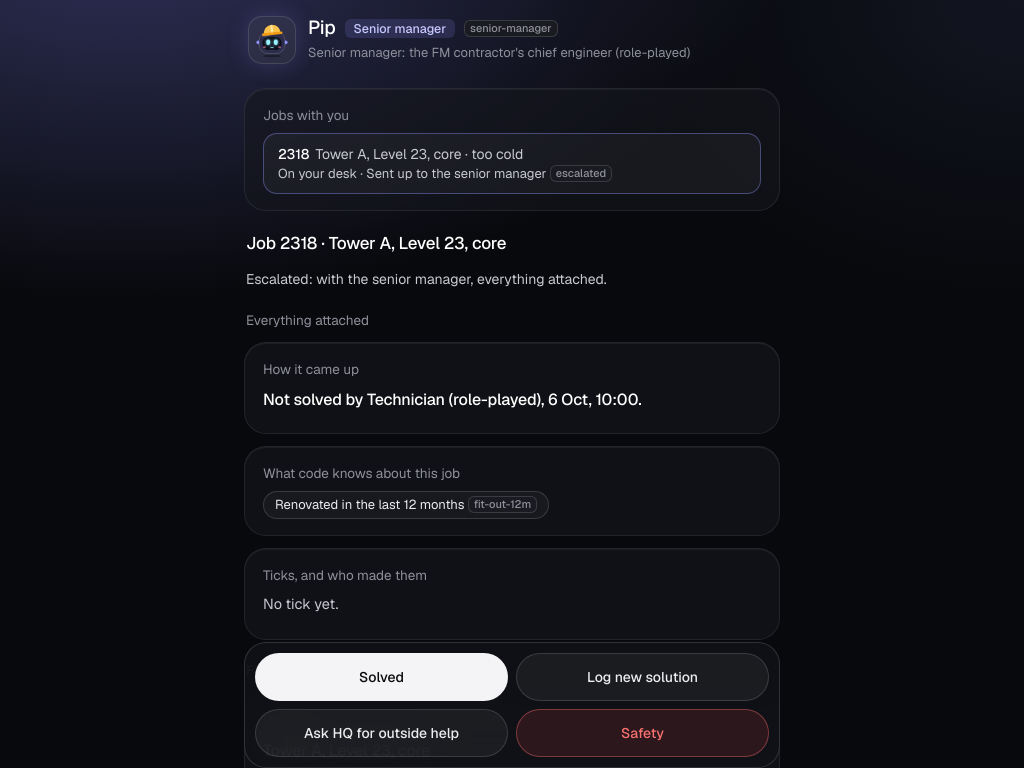
Test case: D1 review: the demo words for the new fix, and why no AI draft shows without them › on Saved answers the Log form says the AI draft covers the demo's words, and one button types them
Click the button "Log new solution" at (642, 677), box top-left (516, 653), bottom-right (769, 701)
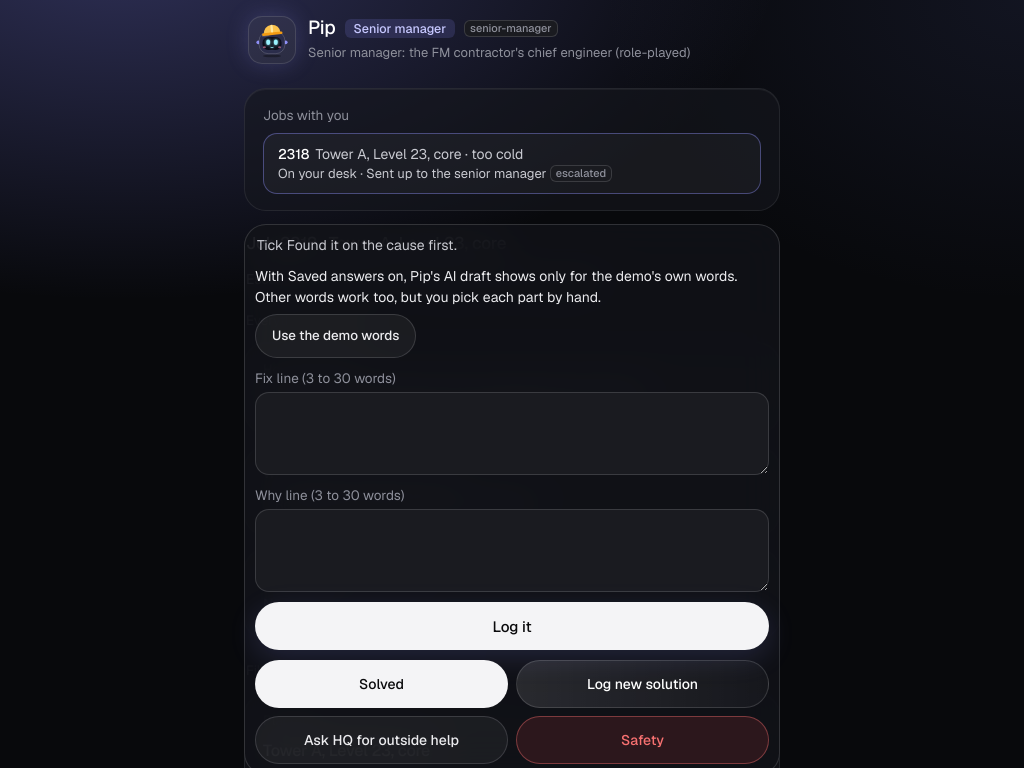
Click the button "Use the demo words" at (336, 335), box top-left (255, 313), bottom-right (416, 357)
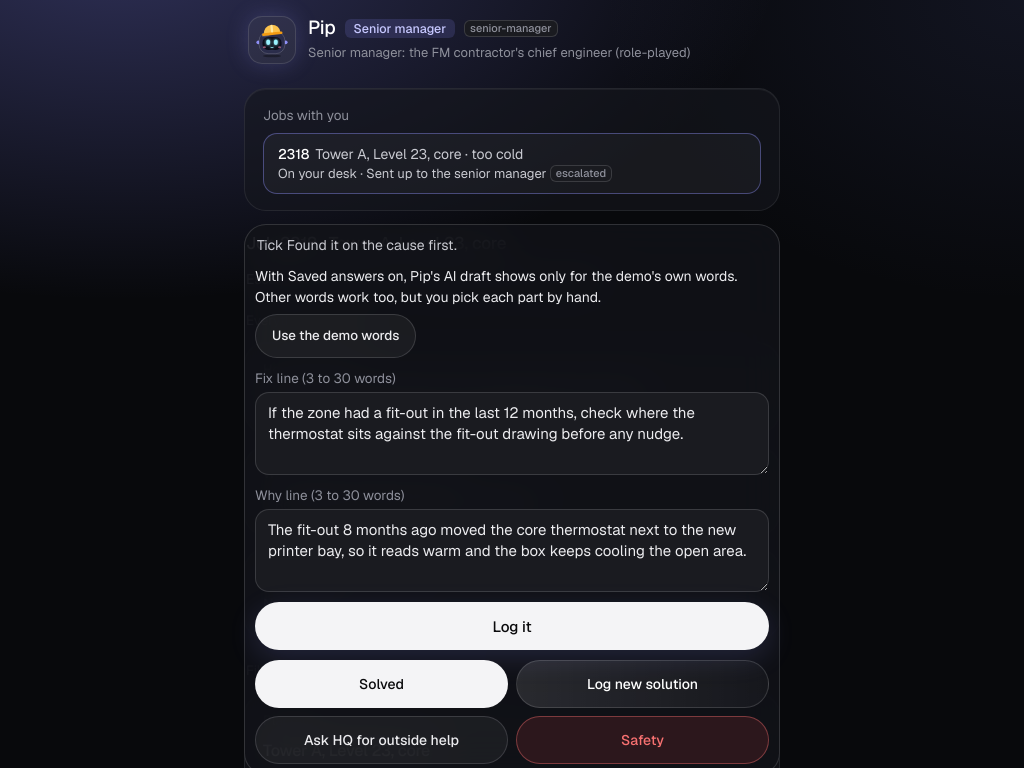
Result: the text box labelled "Fix line (3 to 30 words)" holds "If the zone had a fit-out in the last 12 months, check where the thermostat sits against the fit-out drawing before any nudge." at top-left (255, 392), bottom-right (769, 475)
Result: the text box labelled "Why line (3 to 30 words)" holds "The fit-out 8 months ago moved the core thermostat next to the new printer bay, so it reads warm and the box keeps cooling the open area." at top-left (255, 509), bottom-right (769, 592)
